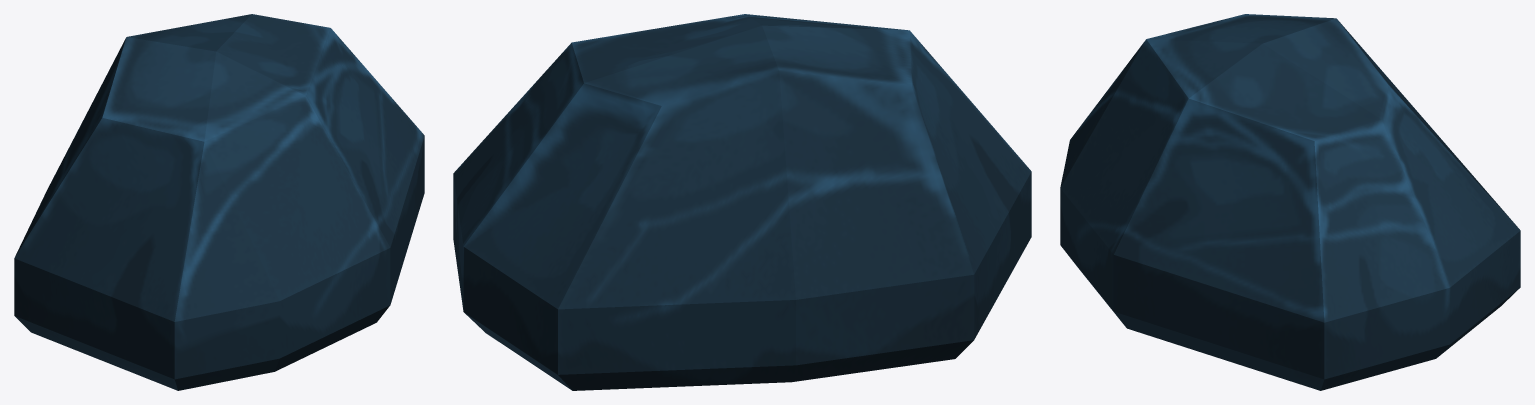
File: Rock3.FBX
3 views of the same model, side by side, from view 1: azimuth 30°, elevation 25°; view 2: azimuth 150°, elevation 25°; view 3: azimuth 270°, elevation 25° (orthographic). The views are drawn at different scales.
Parts seen in each view (by area): view 1: Rock3; view 2: Rock3; view 3: Rock3.
Part boxes in pixels (<box>): Rock3: <box>14,14,424,390</box>; Rock3: <box>453,14,1031,390</box>; Rock3: <box>1060,14,1520,390</box>.
Bounding box in the file's own units: 16.02 × 8.59 × 14.9.
